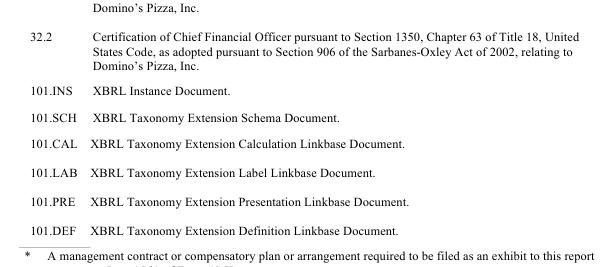table: (29, 28, 578, 236)
table column: (82, 28, 578, 236), (29, 28, 82, 236)
table row: (29, 28, 578, 77), (29, 185, 578, 214), (29, 129, 578, 157), (29, 157, 578, 185), (29, 77, 578, 103), (29, 103, 578, 129), (29, 214, 578, 236)
